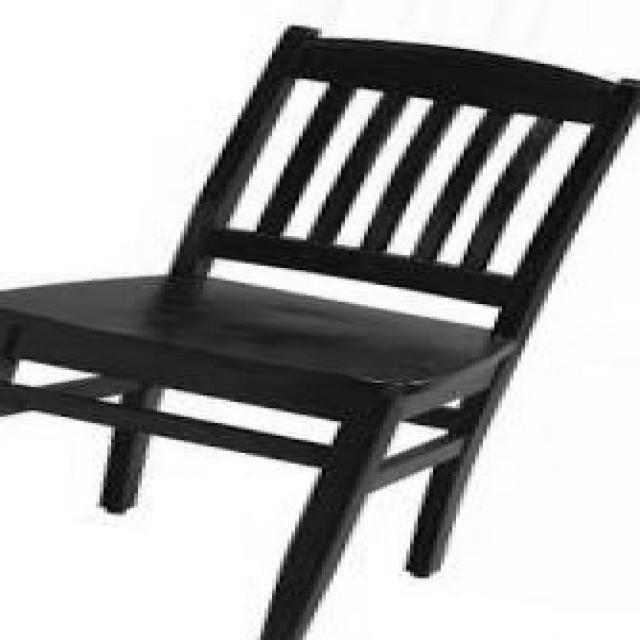chair: (4, 21, 640, 640)
